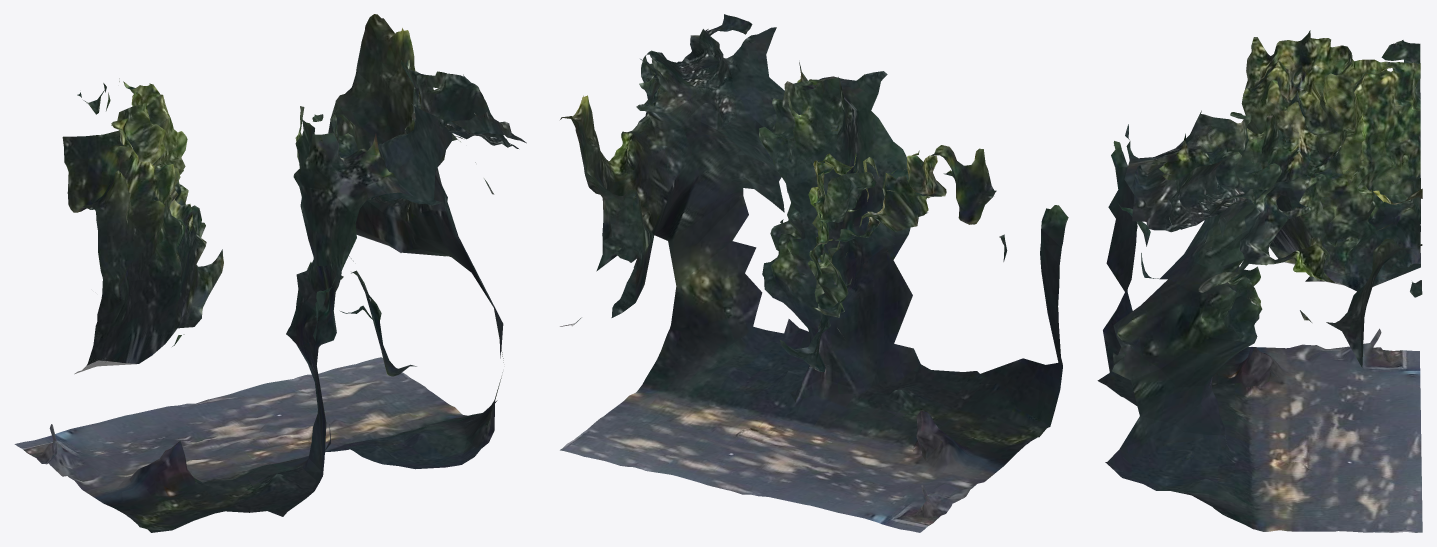
File: Tile_+006_+007_L22_0002040.glb
The picture shows the model from 3 angles, left to right: view 1: azimuth 30°, elevation 25°; view 2: azimuth 150°, elevation 25°; view 3: azimuth 270°, elevation 25°; orthographic projection. The views are drawn at different scales.
Visible parts, largest first — view 1: rtc; view 2: rtc; view 3: rtc.
Boxes of the visible parts, <box> form: rtc: <box>14,14,526,532</box>; rtc: <box>560,14,1068,532</box>; rtc: <box>1097,30,1422,532</box>.
Bounding box in the file's own units: 8.86 × 7.94 × 6.83.
Materials: 1 (1 with a texture image).
